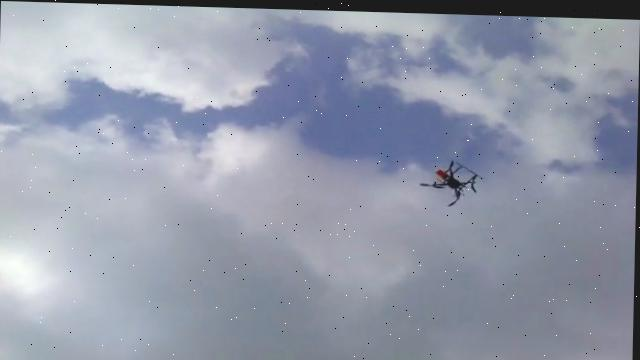drone: (417, 155, 485, 206)
